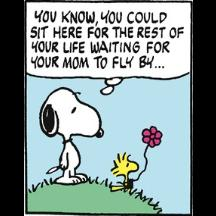snoopy: (36, 86, 103, 186)
